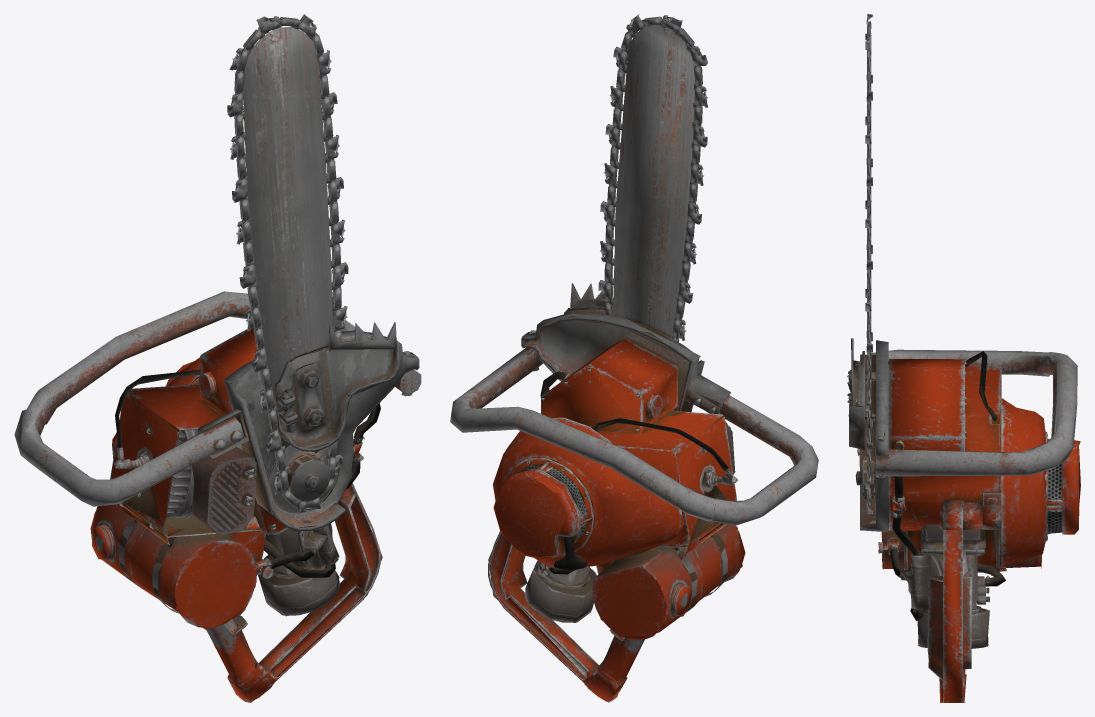
File: w_motosierra_vintage.glb
3 renders of one model, left to right at view 1: azimuth 30°, elevation 25°; view 2: azimuth 150°, elevation 25°; view 3: azimuth 270°, elevation 25°, orthographic. The views are drawn at different scales.
Visible parts, largest first — view 1: w_motosierra_vintage; view 2: w_motosierra_vintage; view 3: w_motosierra_vintage.
Part boxes in pixels (x1,y1,x2,y2): w_motosierra_vintage: [14, 14, 421, 702]; w_motosierra_vintage: [450, 14, 818, 702]; w_motosierra_vintage: [847, 14, 1080, 702].
Bounding box in the file's own units: 0.4127 × 0.8594 × 0.269.
Materials: 2 (2 with a texture image).
